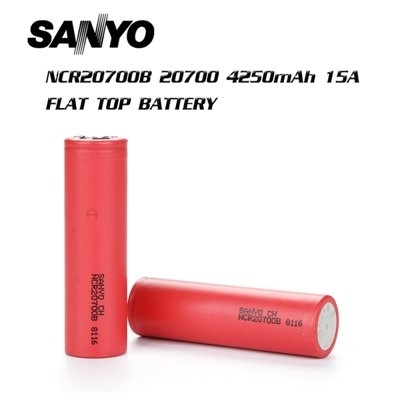Battery: (125, 271, 342, 360), (62, 131, 131, 361)
